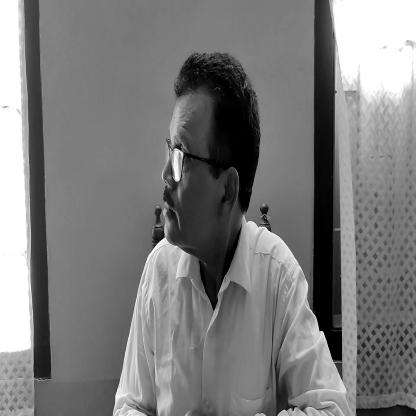Distracted: (156, 71, 263, 261)
